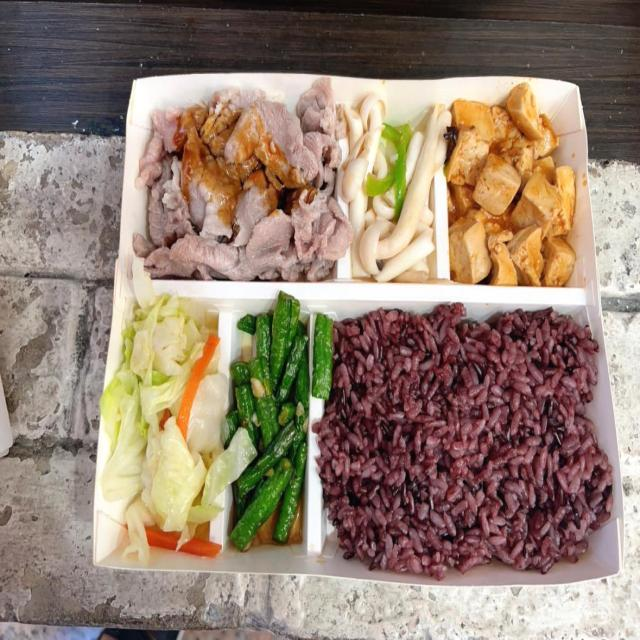Fushan-lettuceStir-fried Sweet Beans with Oyster Mushrooms: (364, 124, 424, 255)
Mapo Tofu: (460, 117, 556, 272)
cabbage: (124, 308, 210, 541)
meat: (143, 109, 334, 274)
purplerice: (342, 313, 576, 560)
